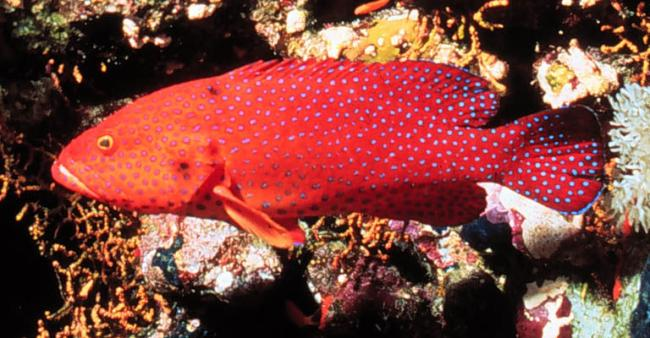fish: (50, 56, 605, 250)
